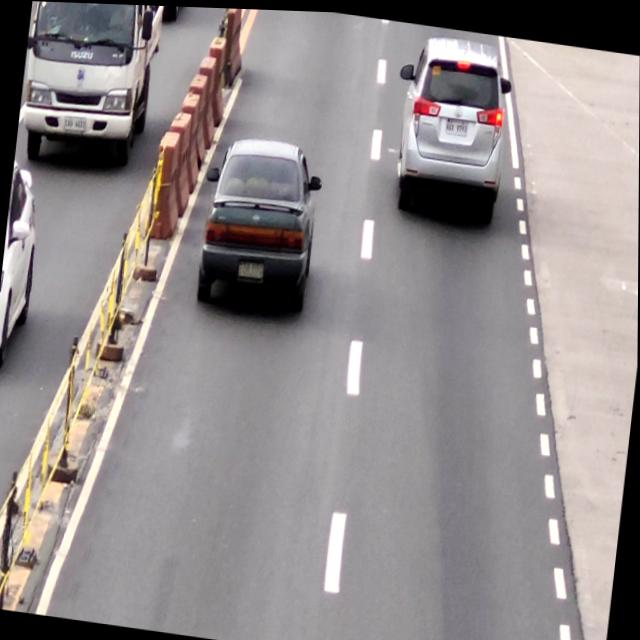Car: (385, 30, 516, 225), (193, 130, 324, 316)
License-Plate: (237, 257, 267, 277), (445, 115, 468, 133)
